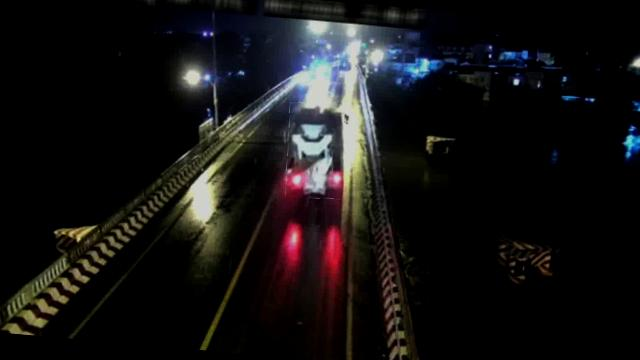Truck: (282, 102, 348, 202)
